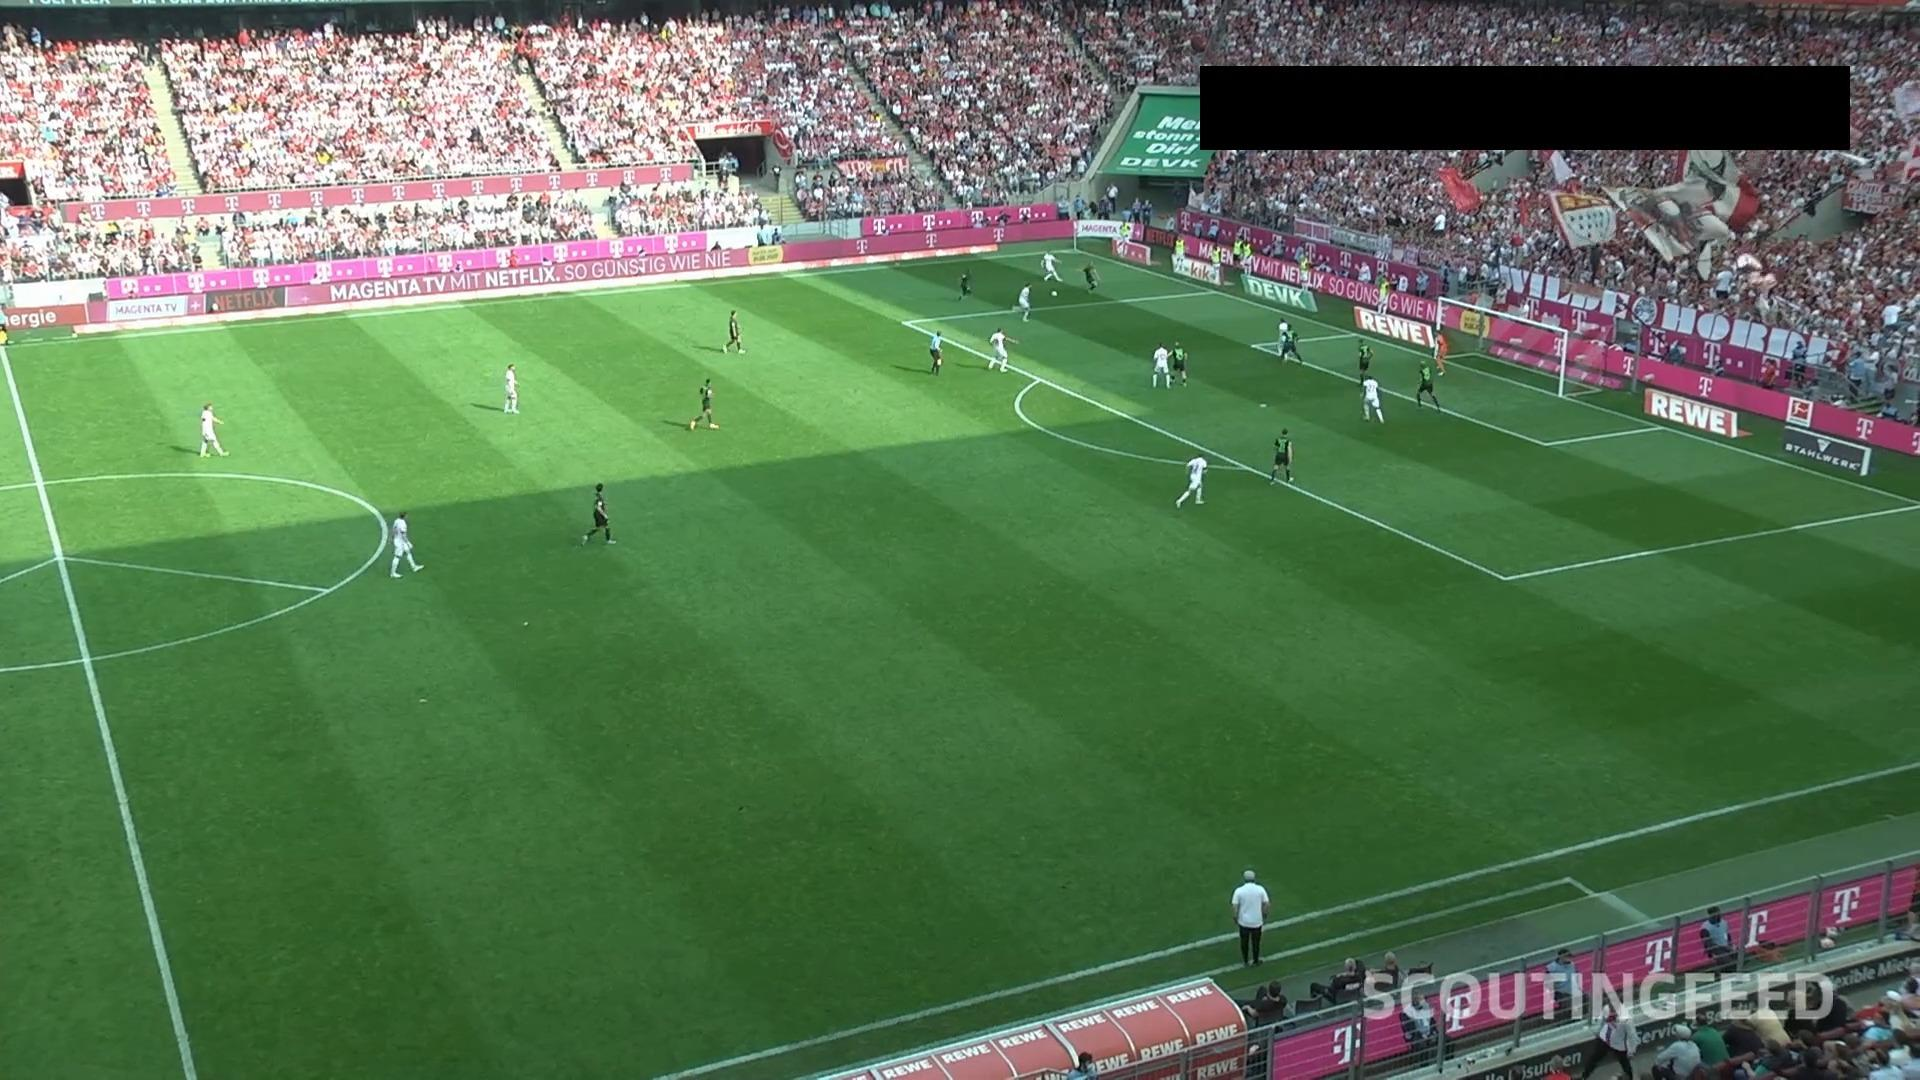ball: (1051, 290, 1059, 297)
